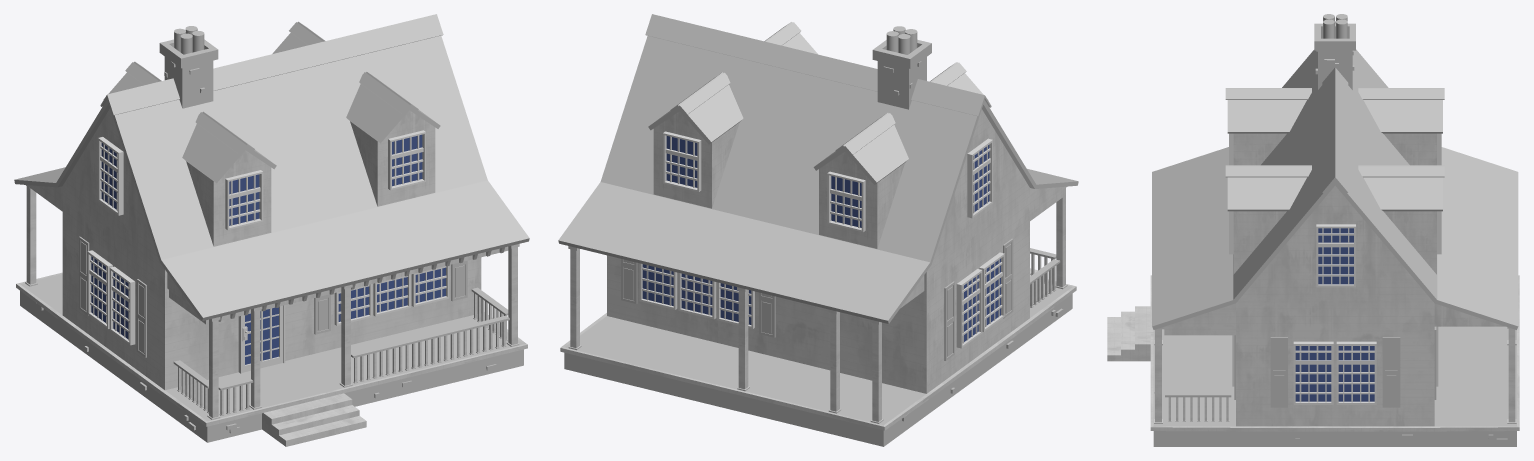
The model's file is House.fbx.
The picture shows the model from 3 angles, left to right: view 1: azimuth 30°, elevation 25°; view 2: azimuth 150°, elevation 25°; view 3: azimuth 270°, elevation 25°; orthographic projection. The views are drawn at different scales.
Visible parts, largest first — view 1: house; view 2: house; view 3: house.
Boxes of the visible parts, x1,y1,x2,y2 form: house: (14, 14, 529, 446); house: (558, 14, 1078, 446); house: (1107, 14, 1519, 446).
Size of the model in its own units: 624 by 585 by 696.
